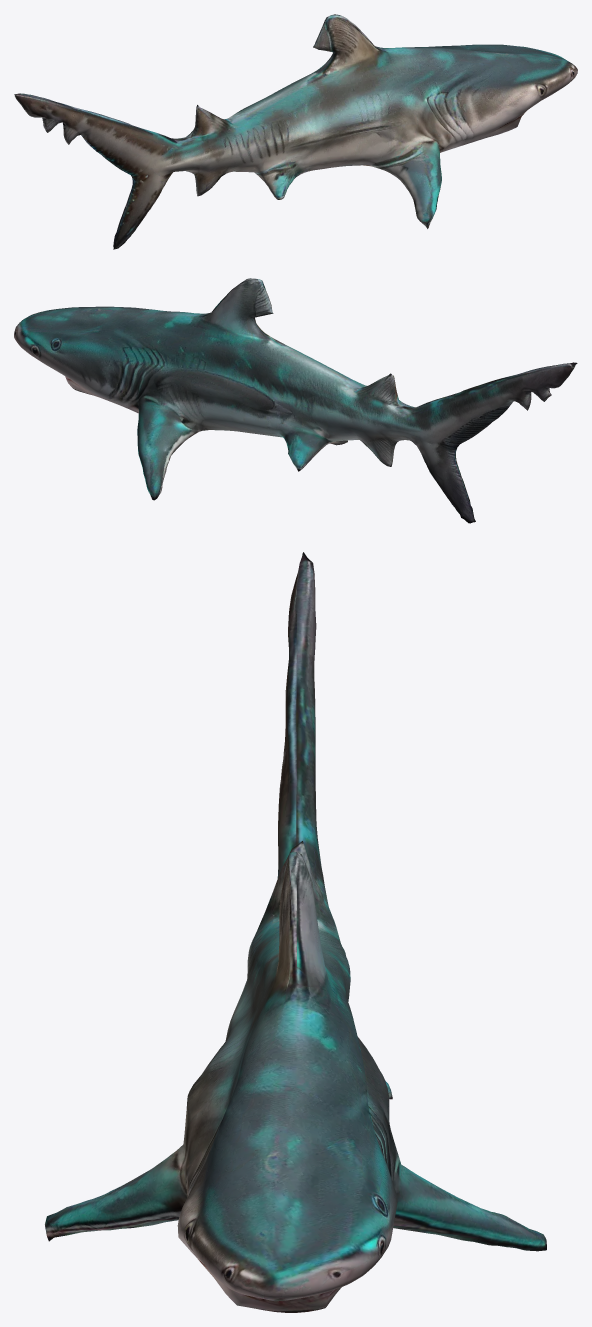
File: whitetip-reef-shark.glb
3 views of the same model, one above another, from view 1: azimuth 30°, elevation 25°; view 2: azimuth 150°, elevation 25°; view 3: azimuth 270°, elevation 25° (orthographic). The views are drawn at different scales.
Visible parts, largest first — view 1: Object_4; view 2: Object_4; view 3: Object_4.
Boxes of the visible parts, x1,y1,x2,y2 form: Object_4: [14, 14, 577, 249]; Object_4: [14, 278, 577, 523]; Object_4: [45, 552, 546, 1312].
Size of the model in its own units: 1.2 by 0.3808 by 0.4732.
1 material, 1 textured.
